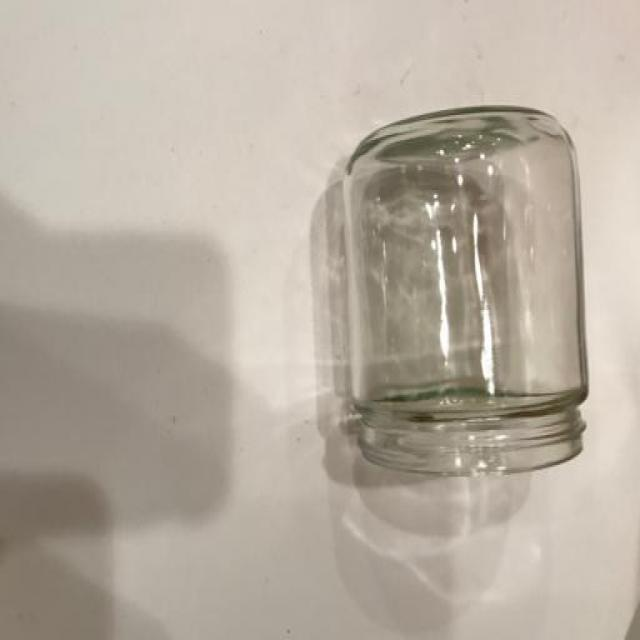glass: (343, 99, 588, 484)
